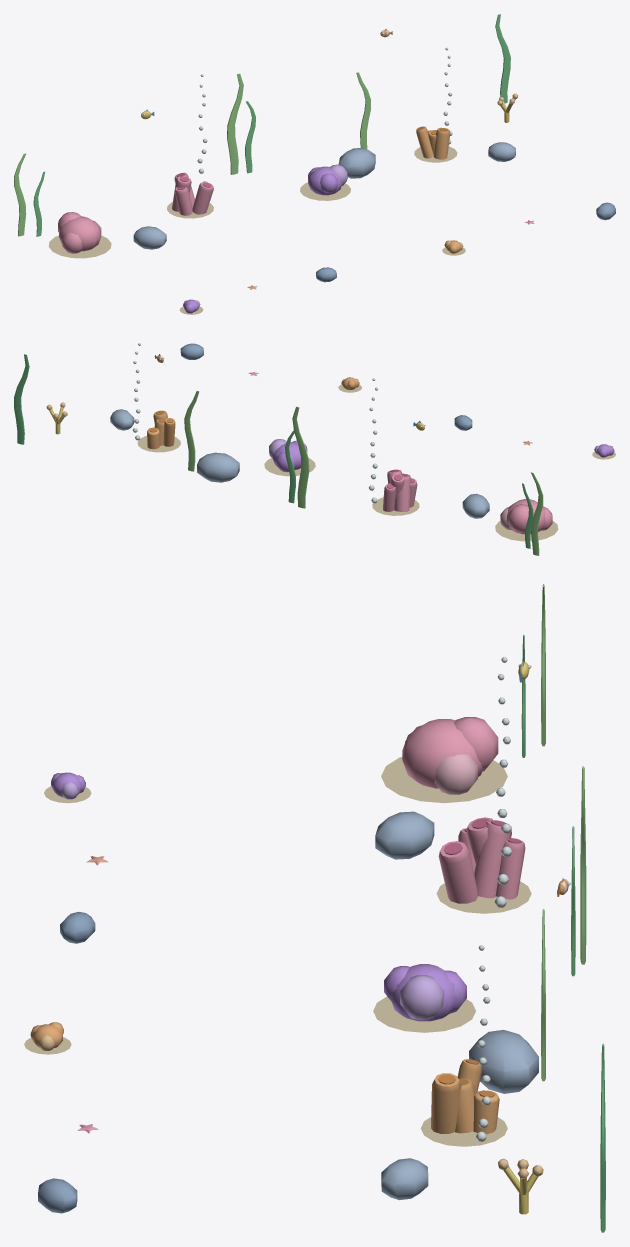
File: reef-near.glb
3 renders of one model, top to bottom at view 1: azimuth 30°, elevation 25°; view 2: azimuth 150°, elevation 25°; view 3: azimuth 270°, elevation 25°, orthographic. The views are drawn at different scales.
Visible parts, largest first — view 1: reef-near; view 2: reef-near; view 3: reef-near.
Boxes of the visible parts, <box> form: reef-near: <box>14,14,615,314</box>; reef-near: <box>14,343,615,555</box>; reef-near: <box>24,584,605,1232</box>.
Size of the model in its own units: 59.54 by 15.55 by 29.34.
